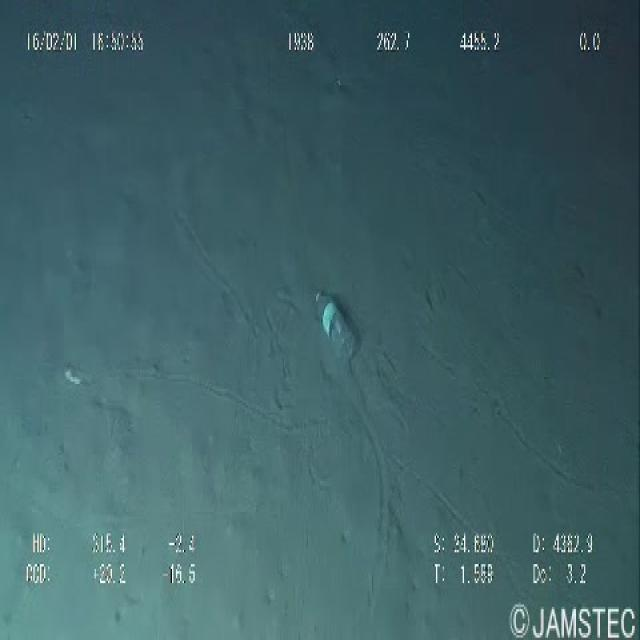plastic: (302, 270, 390, 375)
